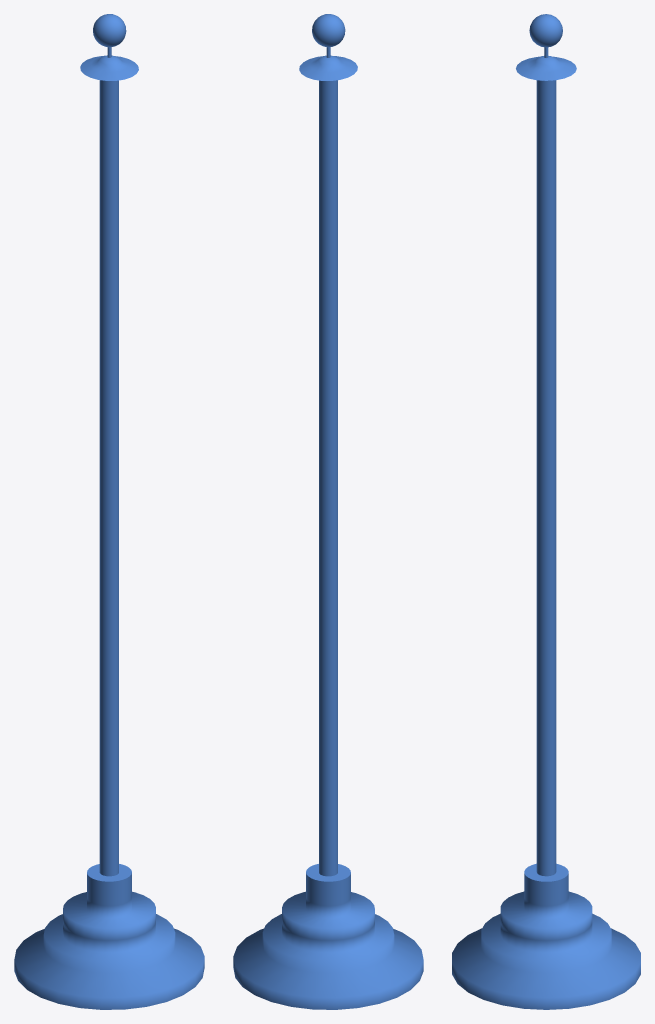
Rendered from pole.obj.
3 views of the same model, side by side, from view 1: azimuth 30°, elevation 25°; view 2: azimuth 150°, elevation 25°; view 3: azimuth 270°, elevation 25° (orthographic).
Parts seen in each view (by area): view 1: Cylinder001, Cylinder002, GeoSphere001, GeoSphere003; view 2: Cylinder001, Cylinder002, GeoSphere001, GeoSphere003; view 3: Cylinder001, Cylinder002, GeoSphere001, GeoSphere003.
Boxes of the visible parts, box(x1,y1,x2,y2) form: Cylinder001: box(14, 864, 204, 1009); Cylinder002: box(99, 80, 118, 876); GeoSphere001: box(80, 55, 138, 80); GeoSphere003: box(93, 14, 126, 47); Cylinder001: box(233, 864, 423, 1009); Cylinder002: box(319, 80, 337, 876); GeoSphere001: box(299, 55, 357, 80); GeoSphere003: box(312, 14, 345, 47); Cylinder001: box(452, 863, 640, 1009); Cylinder002: box(536, 80, 556, 876); GeoSphere001: box(516, 56, 576, 80); GeoSphere003: box(529, 14, 562, 47).
Size of the model in its own units: 28.28 by 157 by 28.08.
